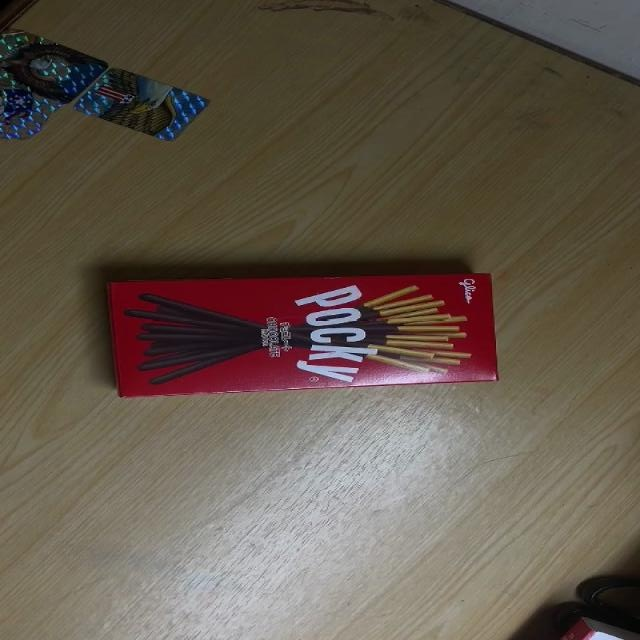Pocky: (101, 272, 498, 401)
